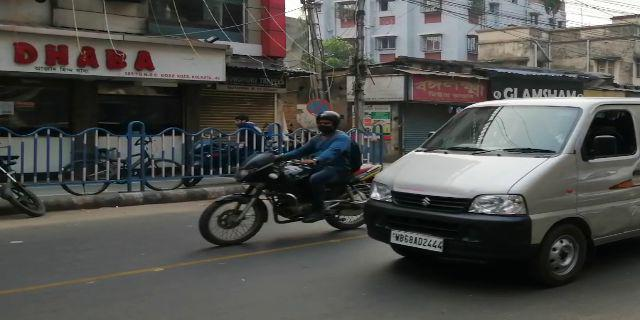Motorbike: (197, 108, 388, 249)
Van: (368, 94, 640, 285)
